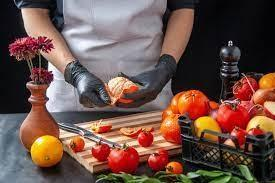apron: (118, 62, 166, 112), (66, 62, 110, 110)
